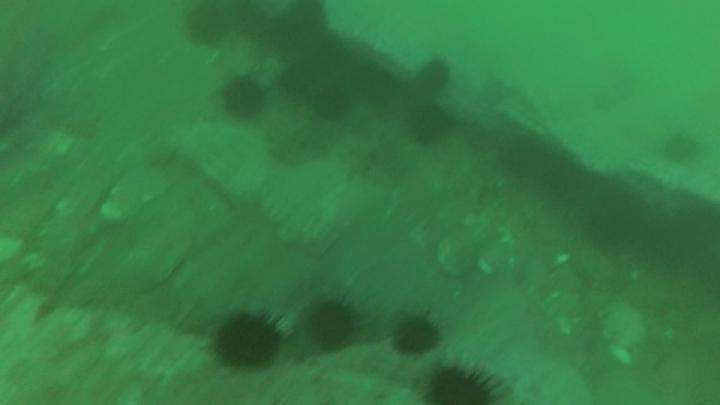echinus: (218, 317, 283, 366), (428, 370, 488, 405), (309, 305, 356, 349), (219, 77, 260, 121), (187, 9, 228, 48), (394, 319, 434, 356), (412, 107, 446, 140), (279, 60, 311, 95), (357, 67, 387, 102), (316, 84, 349, 115), (290, 3, 322, 34), (668, 131, 698, 162), (420, 61, 450, 87)
